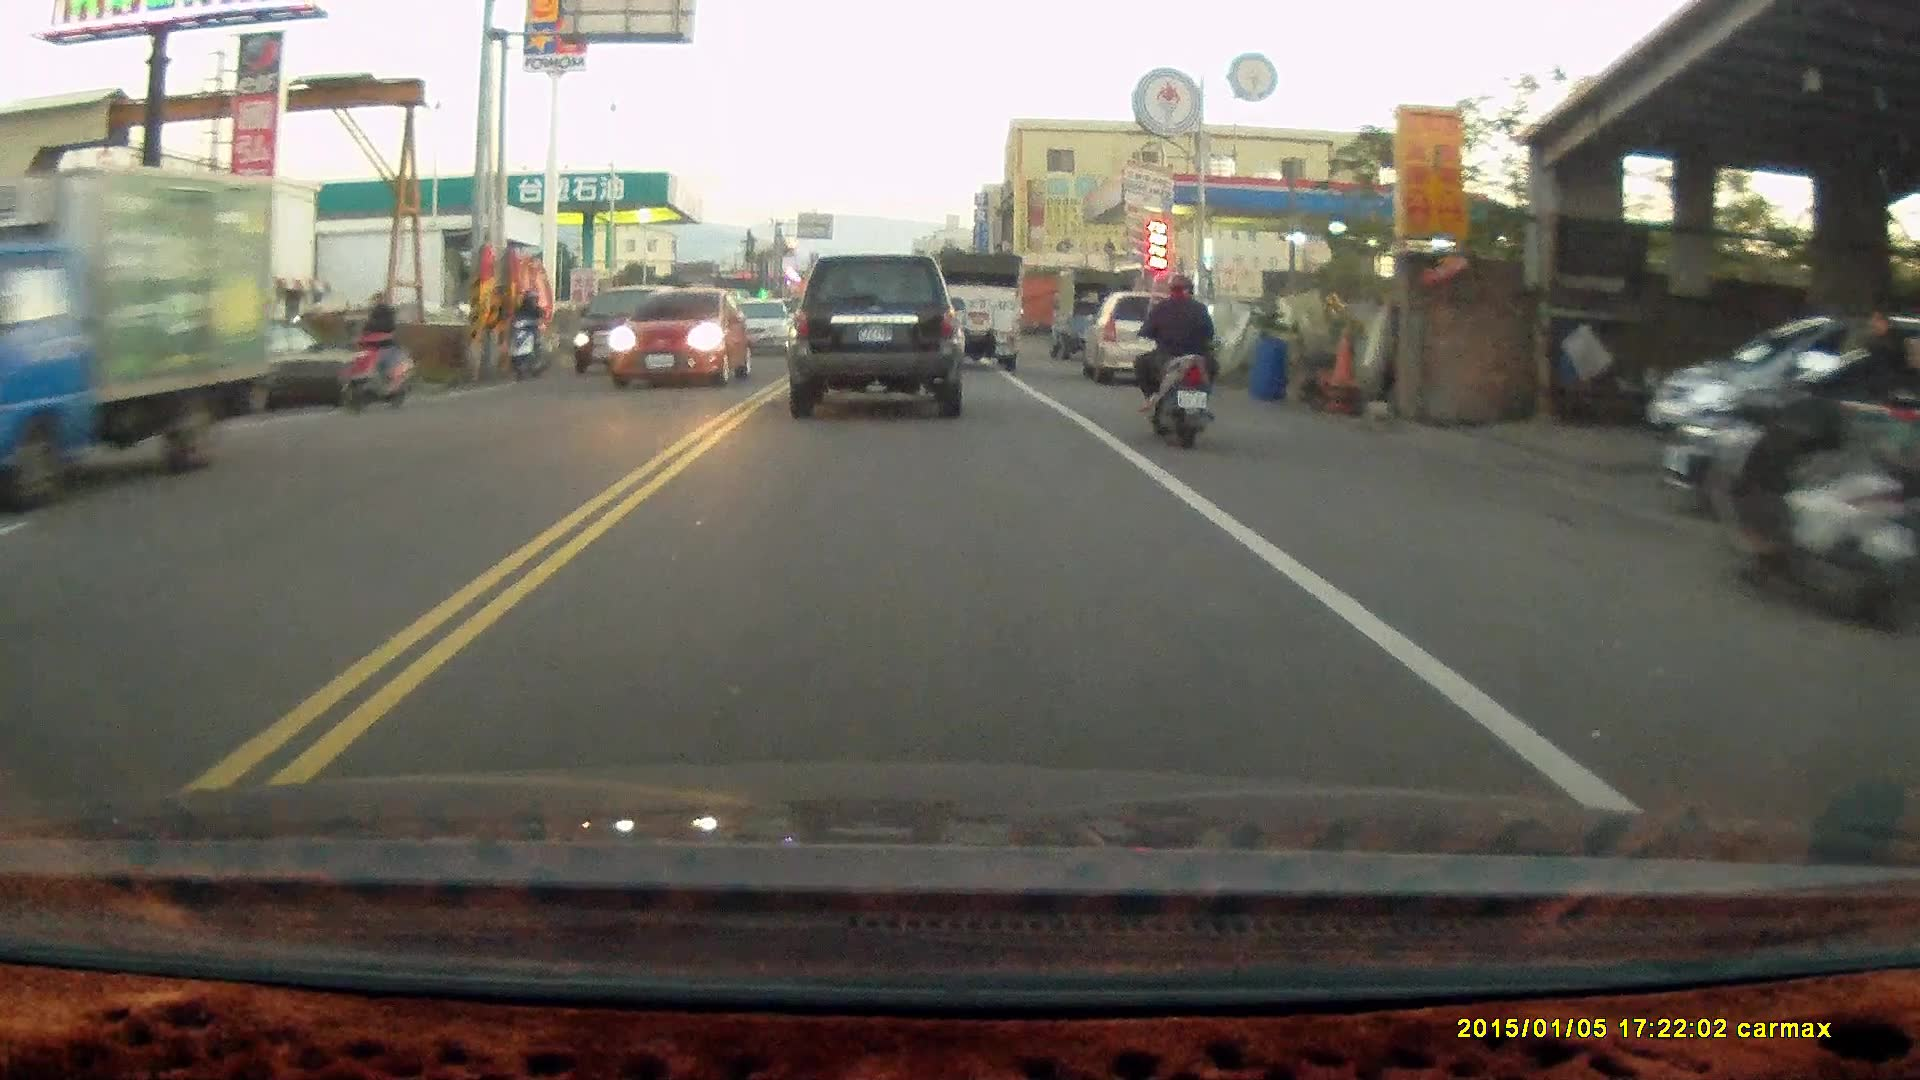rider: (1133, 266, 1227, 446), (334, 291, 419, 414), (503, 289, 549, 379)
vehicle: (1, 155, 304, 495), (786, 253, 968, 421), (614, 284, 759, 390), (931, 247, 1023, 369), (1084, 286, 1202, 381), (573, 283, 681, 373), (724, 299, 796, 355)
